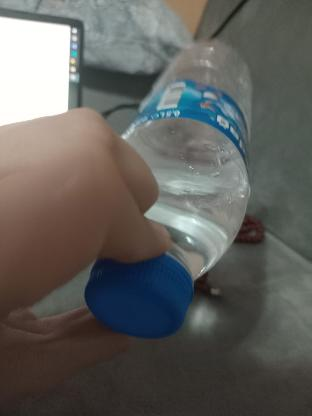Plastic Bottle: (84, 41, 256, 340)
